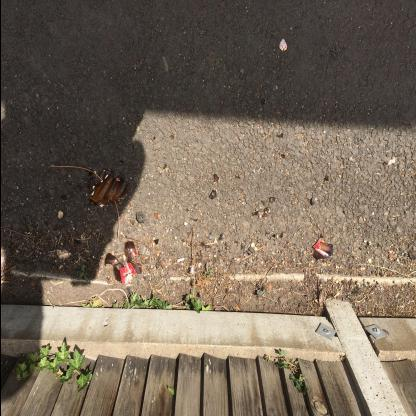cam: (88, 170, 130, 209), (104, 242, 142, 285), (312, 240, 334, 262)
